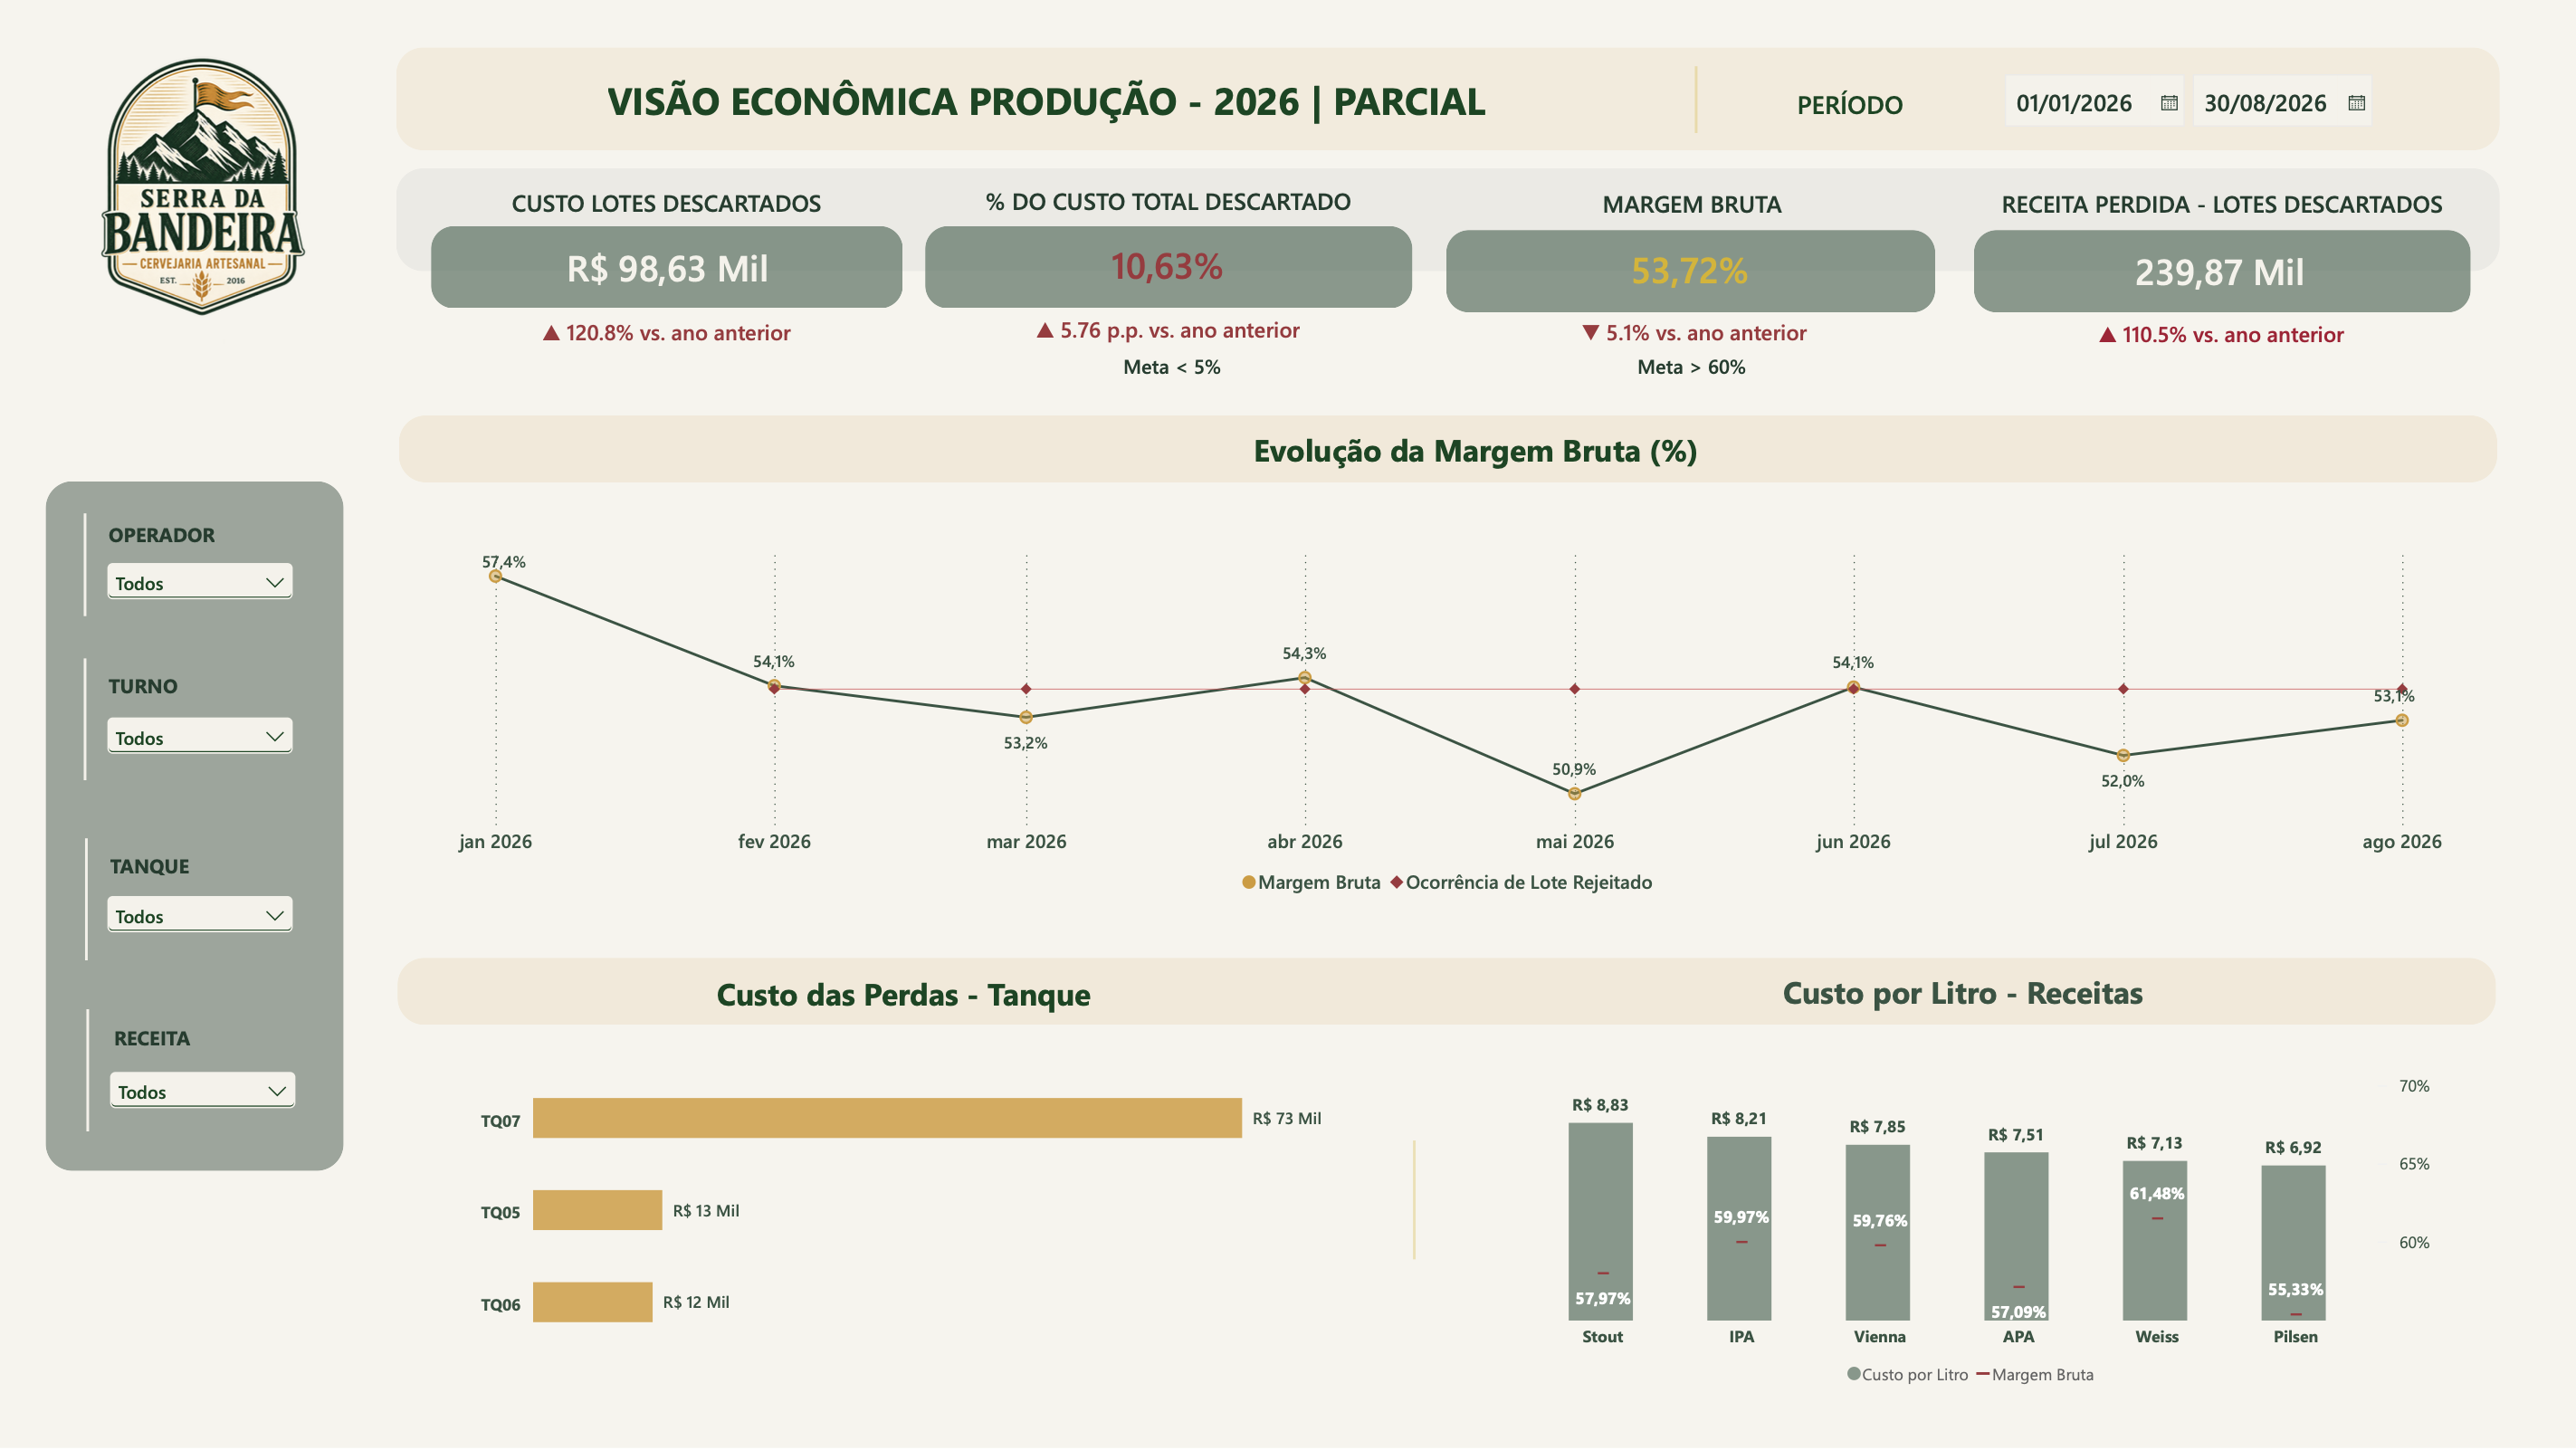

The dashboard page shown, as its layout file describes it:
{"tool":"powerbi","page":{"name":"Resumo Financeiro 26'","canvas":[1920,1080],"ordinal":14},"visuals":[{"type":"shape","box":[295,126.7,1566.7,76.7],"z":0},{"type":"shape","box":[295.7,715.4,1562.9,50],"z":1000},{"type":"shape","box":[296.6,311.5,1562.9,50],"z":2000},{"type":"shape","box":[321.4,170,351.4,61.4],"z":3000},{"type":"shape","box":[1472.9,118.6,364.3,67.1],"z":4000},{"type":"shape","box":[1077.1,172.9,364.3,61.4],"z":5000},{"type":"shape","box":[1078.6,118.6,362.9,67.1],"z":6000},{"type":"shape","box":[688.6,170,362.9,61.4],"z":7000},{"type":"shape","box":[321.4,117.1,351.4,68.6],"z":8000},{"type":"shape","box":[1470,172.9,370,61.4],"z":9000},{"type":"cardVisual","fields":{"Data":["PRODUCAO.Custo_Lotes_Rejeitados"]},"box":[322,174.5,351.4,52.9],"z":10000},{"type":"image","box":[46.7,23.3,206.7,238.3],"z":11000},{"type":"shape","box":[295,36.7,1566.7,76.7],"z":12000},{"type":"shape","box":[295.7,37.1,967.1,77.1],"z":13000},{"type":"shape","box":[1214.3,51.4,98.3,50],"z":14000},{"type":"shape","box":[1312.9,40,130,77.1],"z":15000},{"type":"slicer","fields":{"Values":["DATA.Date"]},"box":[1485,51.7,355,65],"z":16000},{"type":"shape","box":[341,311,1517.1,50],"z":17000},{"type":"shape","box":[295.2,706.3,757.1,70],"z":18000},{"type":"shape","box":[34.3,360.1,221.9,513.7],"z":19000},{"type":"shape","box":[80.8,377.9,128.4,42],"z":20000},{"type":"slicer","fields":{"Values":["OPERADORES.Nome_completo"]},"box":[75.4,409.1,147.5,57.8],"z":21000},{"type":"shape","box":[51.2,384.1,24.7,76.5],"z":22000},{"type":"shape","box":[80.8,491.1,128.4,42],"z":23000},{"type":"slicer","fields":{"Values":["OPERADORES.Turno"]},"box":[75.4,523.6,147.5,57.8],"z":24000},{"type":"shape","box":[51.2,492.4,24.7,91.4],"z":25000},{"type":"shape","box":[82.1,625.3,128.4,42],"z":26000},{"type":"slicer","fields":{"Values":["TANQUE.ID_Tanque"]},"box":[75.4,656.9,147.5,57.8],"z":27000},{"type":"shape","box":[52.4,626.5,24.7,91.4],"z":28000},{"type":"cardVisual","fields":{"Data":["PRODUCAO.Margem_Bruta_Perc"]},"box":[1077.1,171.4,364.3,60],"z":29000},{"type":"cardVisual","fields":{"Data":["PRODUCAO.Receita_Nao_Realizada"]},"box":[1471.4,174.3,365.7,57.1],"z":30000},{"type":"shape","box":[85.4,753.1,128.4,42],"z":31000},{"type":"shape","box":[52.7,753.1,24.7,91.4],"z":32000},{"type":"slicer","fields":{"Values":["RECEITA.Receita"]},"box":[76.8,787.5,147.5,57.8],"z":33000},{"type":"shape","box":[688.6,115.7,362.9,68.6],"z":34000},{"type":"shape","box":[1004.3,851,98.6,88.6],"z":35000},{"type":"shape","box":[1068.1,704.9,788.6,70],"z":36000},{"type":"lineChart","fields":{"Category":["DATA.Date.Variação.Hierarquia de datas.Ano","DATA.Date.Variação.Hierarquia de datas.Trimestre","DATA.Date.Variação.Hierarquia de datas.Mês"],"Y":["PRODUCAO.Margem_Bruta_Perc"],"Y2":["PRODUCAO.Numero_Lotes_Rejeitados"]},"box":[325,391.7,1510,296.7],"z":37000},{"type":"barChart","fields":{"Category":["PRODUCAO.ID_Tanque"],"Y":["PRODUCAO.Custo_Lotes_Rejeitados"]},"box":[341.4,770,660,264.3],"z":38000},{"type":"lineClusteredColumnComboChart","fields":{"Category":["RECEITA.Receita"],"Y":["PRODUCAO.Custo_Por_litro"],"Y2":["PRODUCAO.Margem_Bruta_Perc"]},"box":[1111.4,787.1,717.1,267.1],"z":39000},{"type":"shape","box":[690.9,252.7,364.3,41.4],"z":40000},{"type":"shape","box":[1078.1,252.7,364.3,41.4],"z":41000},{"type":"cardVisual","fields":{"Data":["PRODUCAO.Variacao_Custo_Lotes_Rejeitados_percentual"]},"box":[321.4,231.4,351.4,35.7],"z":42000},{"type":"cardVisual","fields":{"Data":["PRODUCAO.Variacao_Margem_Bruta_percentual"]},"box":[1081.4,231.4,362.9,35.7],"z":43000},{"type":"cardVisual","fields":{"Data":["PRODUCAO.Variacao_Perda_Receita_percentual"]},"box":[1471.7,231.7,365,35],"z":44000},{"type":"cardVisual","fields":{"Data":["PRODUCAO.Variacao_%_Custo_Descartado_pp"]},"box":[688.6,228.6,362.9,35.7],"z":45000},{"type":"cardVisual","fields":{"Data":["PRODUCAO.%_Custo_Lote_Rejeitado"]},"box":[688.6,167.1,362.9,61.4],"z":46000}]}

Visuals, with their boxes in screenshot pixels (x1, y1, x2, y2), scaled from the page's 1920x1080 canvas onto the 2576x1450 screenshot:
shape: select_region(396, 170, 2498, 273)
shape: select_region(396, 960, 2494, 1027)
shape: select_region(398, 418, 2495, 485)
shape: select_region(431, 228, 902, 310)
shape: select_region(1976, 159, 2465, 249)
shape: select_region(1445, 232, 1934, 315)
shape: select_region(1447, 159, 1934, 249)
shape: select_region(924, 228, 1411, 310)
shape: select_region(431, 157, 902, 249)
shape: select_region(1972, 232, 2468, 315)
cardVisual - PRODUCAO.Custo_Lotes_Rejeitados: select_region(432, 234, 903, 305)
image: select_region(62, 32, 340, 351)
shape: select_region(396, 49, 2498, 152)
shape: select_region(396, 50, 1694, 153)
shape: select_region(1629, 69, 1761, 136)
shape: select_region(1761, 53, 1936, 157)
slicer - DATA.Date: select_region(1992, 70, 2468, 157)
shape: select_region(457, 417, 2493, 484)
shape: select_region(396, 949, 1412, 1043)
shape: select_region(46, 483, 344, 1173)
shape: select_region(109, 508, 281, 564)
slicer - OPERADORES.Nome_completo: select_region(101, 549, 299, 627)
shape: select_region(69, 516, 102, 618)
shape: select_region(109, 659, 281, 716)
slicer - OPERADORES.Turno: select_region(101, 703, 299, 780)
shape: select_region(69, 661, 102, 784)
shape: select_region(110, 840, 282, 896)
slicer - TANQUE.ID_Tanque: select_region(101, 882, 299, 959)
shape: select_region(71, 841, 103, 964)
cardVisual - PRODUCAO.Margem_Bruta_Perc: select_region(1445, 230, 1934, 310)
cardVisual - PRODUCAO.Receita_Nao_Realizada: select_region(1974, 234, 2465, 310)
shape: select_region(115, 1011, 287, 1067)
shape: select_region(71, 1011, 104, 1134)
slicer - RECEITA.Receita: select_region(103, 1057, 301, 1135)
shape: select_region(924, 156, 1411, 247)
shape: select_region(1348, 1142, 1480, 1262)
shape: select_region(1433, 947, 2491, 1040)
lineChart - DATA.Date.Variação.Hierarquia de datas.Ano x DATA.Date.Variação.Hierarquia de datas.Trimestre: select_region(436, 526, 2462, 924)
barChart - PRODUCAO.ID_Tanque x PRODUCAO.Custo_Lotes_Rejeitados: select_region(458, 1034, 1343, 1388)
lineClusteredColumnComboChart - RECEITA.Receita x PRODUCAO.Custo_Por_litro: select_region(1491, 1057, 2453, 1416)
shape: select_region(927, 339, 1416, 395)
shape: select_region(1446, 339, 1935, 395)
cardVisual - PRODUCAO.Variacao_Custo_Lotes_Rejeitados_percentual: select_region(431, 310, 902, 358)
cardVisual - PRODUCAO.Variacao_Margem_Bruta_percentual: select_region(1451, 310, 1938, 358)
cardVisual - PRODUCAO.Variacao_Perda_Receita_percentual: select_region(1974, 311, 2465, 358)
cardVisual - PRODUCAO.Variacao_%_Custo_Descartado_pp: select_region(924, 307, 1411, 355)
cardVisual - PRODUCAO.%_Custo_Lote_Rejeitado: select_region(924, 224, 1411, 307)
